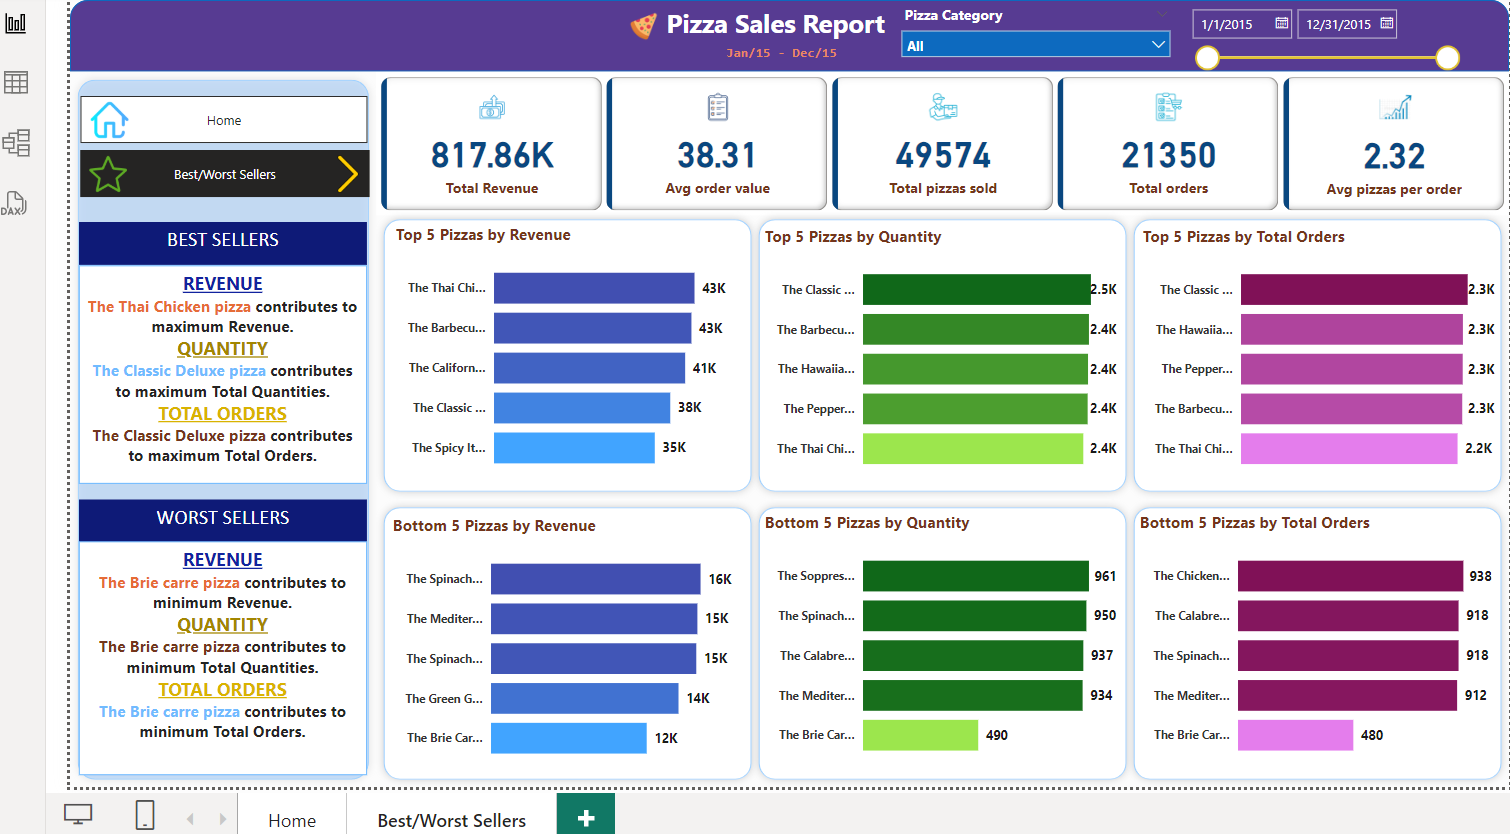

The page's visual inventory and layout, read from the dashboard file:
{"tool":"powerbi","page":{"name":"Best/Worst Sellers","canvas":[1500,820],"ordinal":1},"visuals":[{"type":"cardVisual","fields":{"Data":["pizza_sales.Total Revenue","pizza_sales.Avg order value","pizza_sales.Total pizzas sold","pizza_sales.Total orders","pizza_sales.Avg pizzas per order"]},"box":[319.4,74.5,1180,149.1],"z":0},{"type":"shape","box":[0,0,1499.4,74.5],"z":1000},{"type":"textbox","box":[610.4,0,248.4,46.1],"z":2000},{"type":"textbox","box":[674.3,39,135.5,35.5],"z":3000},{"type":"image","box":[571.4,7.1,51.5,39],"z":4000},{"type":"shape","box":[0,74.5,319.4,745.3],"z":5000},{"type":"textbox","box":[8.9,232,299.9,44.4],"z":6000},{"type":"textbox","box":[8.9,276.8,299.9,227.1],"z":7000},{"type":"textbox","box":[8.9,519.9,299.9,44.4],"z":8000},{"type":"textbox","box":[8.9,564.3,299.9,243.1],"z":9000},{"type":"slicer","fields":{"Values":["pizza_sales.pizza_category"]},"box":[857.1,0,299.9,65.7],"z":10000},{"type":"slicer","fields":{"Values":["pizza_sales.order_date"]},"box":[1156.9,0,299.9,90.5],"z":11000},{"type":"shape","box":[319.4,220,399.3,299.9],"z":12000},{"type":"shape","box":[709.8,220,399.3,299.9],"z":13000},{"type":"shape","box":[1100.2,220,399.3,299.9],"z":14000},{"type":"shape","box":[319.4,519.9,399.3,299.9],"z":15000},{"type":"shape","box":[709.8,519.9,399.3,299.9],"z":16000},{"type":"shape","box":[1100.2,519.9,399.3,299.9],"z":17000},{"type":"clusteredBarChart","title":"Top 5 Pizzas by Revenue","fields":{"Category":["pizza_sales.pizza_name"],"Y":["pizza_sales.Total Revenue"]},"box":[334.4,232.5,376.5,272.4],"z":18000},{"type":"clusteredBarChart","title":"Bottom 5 Pizzas by Revenue","fields":{"Category":["pizza_sales.pizza_name"],"Y":["pizza_sales.Total Revenue"]},"box":[331.8,535.9,376.2,271.5],"z":19000},{"type":"clusteredBarChart","title":"Top 5 Pizzas by Quantity","fields":{"Category":["pizza_sales.pizza_name"],"Y":["pizza_sales.Total pizzas sold"]},"box":[718.7,234.2,376.2,271.5],"z":20000},{"type":"clusteredBarChart","title":"Bottom 5 Pizzas by Quantity","fields":{"Category":["pizza_sales.pizza_name"],"Y":["pizza_sales.Total pizzas sold"]},"box":[718.7,532.3,376.2,271.5],"z":21000},{"type":"clusteredBarChart","title":"Top 5 Pizzas by Total Orders","fields":{"Category":["pizza_sales.pizza_name"],"Y":["pizza_sales.Total orders"]},"box":[1112.6,234.2,376.2,271.5],"z":22000},{"type":"clusteredBarChart","title":"Bottom 5 Pizzas by Total Orders","fields":{"Category":["pizza_sales.pizza_name"],"Y":["pizza_sales.Total orders"]},"box":[1109,532.3,376.2,271.5],"z":23000},{"type":"pageNavigator","box":[10.6,99.4,299.9,49.7],"z":23001},{"type":"pageNavigator","box":[10.6,156.2,301.7,49.7],"z":23002},{"type":"image","box":[259.1,156.2,60.3,49.7],"z":23003},{"type":"image","box":[10.6,99.4,60.3,49.7],"z":23004},{"type":"image","box":[8.9,156.2,60.3,49.7],"z":23005}]}

Visuals, with their boxes on the page's 1500x820 design canvas (x1, y1, x2, y2). These are canvas units, not pixel positions in the 1510x834 screenshot, which may show the page scaled, cropped or inside an application window:
cardVisual - pizza_sales.Total Revenue x pizza_sales.Avg order value: pyautogui.locateOnScreen(319, 74, 1499, 224)
shape: pyautogui.locateOnScreen(0, 0, 1499, 74)
textbox: pyautogui.locateOnScreen(610, 0, 859, 46)
textbox: pyautogui.locateOnScreen(674, 39, 810, 74)
image: pyautogui.locateOnScreen(571, 7, 623, 46)
shape: pyautogui.locateOnScreen(0, 74, 319, 820)
textbox: pyautogui.locateOnScreen(9, 232, 309, 276)
textbox: pyautogui.locateOnScreen(9, 277, 309, 504)
textbox: pyautogui.locateOnScreen(9, 520, 309, 564)
textbox: pyautogui.locateOnScreen(9, 564, 309, 807)
slicer - pizza_sales.pizza_category: pyautogui.locateOnScreen(857, 0, 1157, 66)
slicer - pizza_sales.order_date: pyautogui.locateOnScreen(1157, 0, 1457, 90)
shape: pyautogui.locateOnScreen(319, 220, 719, 520)
shape: pyautogui.locateOnScreen(710, 220, 1109, 520)
shape: pyautogui.locateOnScreen(1100, 220, 1500, 520)
shape: pyautogui.locateOnScreen(319, 520, 719, 820)
shape: pyautogui.locateOnScreen(710, 520, 1109, 820)
shape: pyautogui.locateOnScreen(1100, 520, 1500, 820)
"Top 5 Pizzas by Revenue" clusteredBarChart: pyautogui.locateOnScreen(334, 232, 711, 505)
"Bottom 5 Pizzas by Revenue" clusteredBarChart: pyautogui.locateOnScreen(332, 536, 708, 807)
"Top 5 Pizzas by Quantity" clusteredBarChart: pyautogui.locateOnScreen(719, 234, 1095, 506)
"Bottom 5 Pizzas by Quantity" clusteredBarChart: pyautogui.locateOnScreen(719, 532, 1095, 804)
"Top 5 Pizzas by Total Orders" clusteredBarChart: pyautogui.locateOnScreen(1113, 234, 1489, 506)
"Bottom 5 Pizzas by Total Orders" clusteredBarChart: pyautogui.locateOnScreen(1109, 532, 1485, 804)
pageNavigator: pyautogui.locateOnScreen(11, 99, 310, 149)
pageNavigator: pyautogui.locateOnScreen(11, 156, 312, 206)
image: pyautogui.locateOnScreen(259, 156, 319, 206)
image: pyautogui.locateOnScreen(11, 99, 71, 149)
image: pyautogui.locateOnScreen(9, 156, 69, 206)
